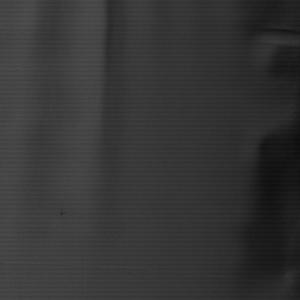Wrinkle: (13, 1, 133, 262), (218, 1, 300, 300)
